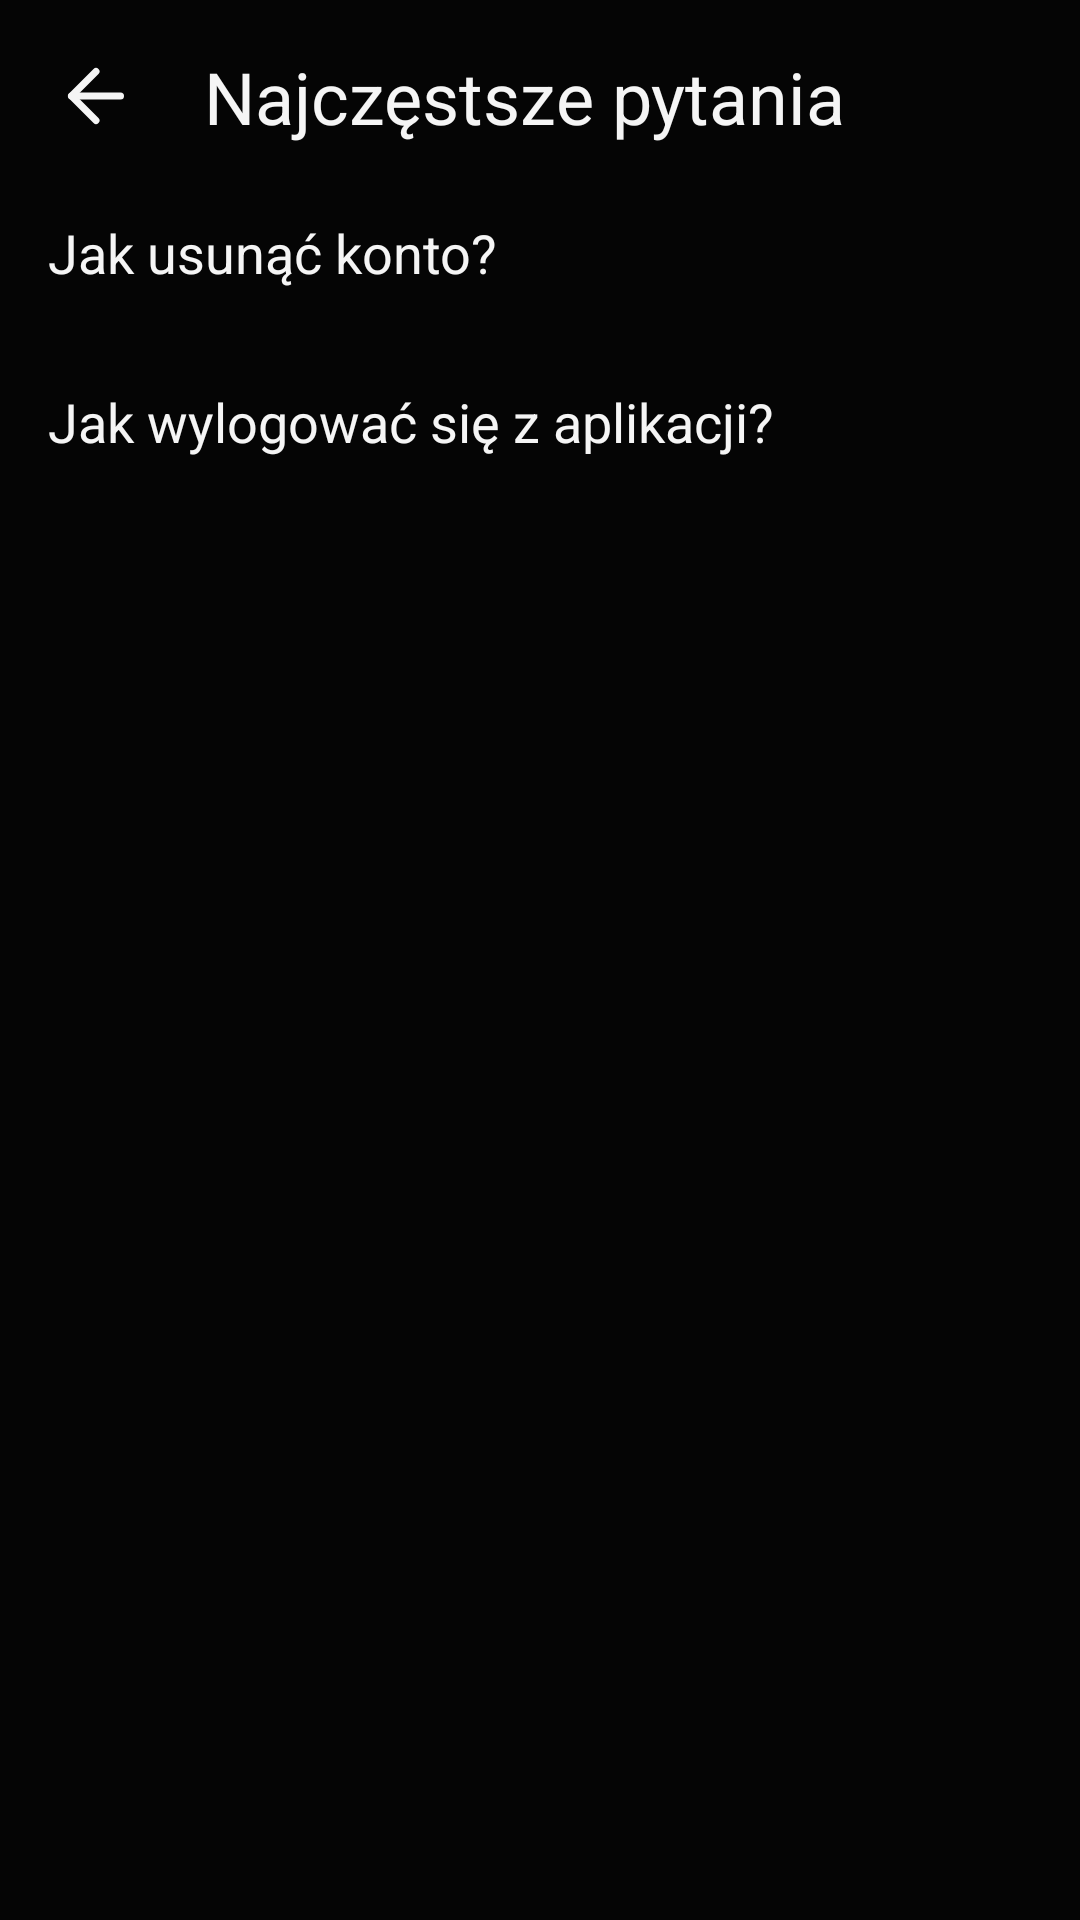

Icons on this 1080x1920 Android screen, each with the point to tap as [x,y]:
Go Back: [96,96]
